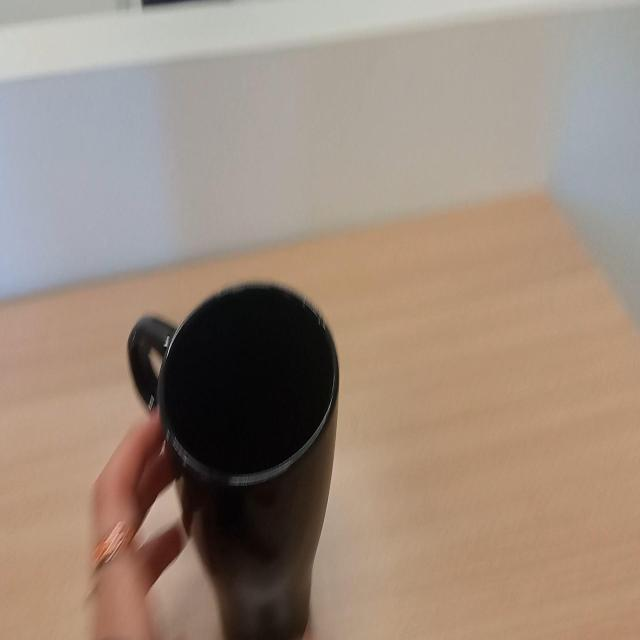cup: (123, 278, 340, 640)
